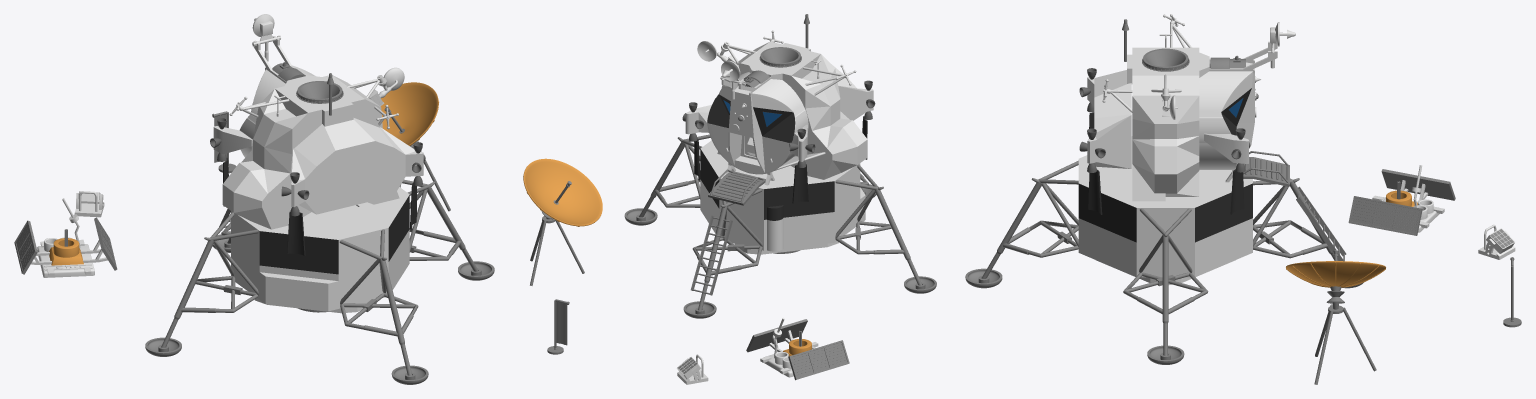
Rendered from Airfix lunar module upload.fbx.
3 renders of one model, left to right at view 1: azimuth 30°, elevation 25°; view 2: azimuth 150°, elevation 25°; view 3: azimuth 270°, elevation 25°, orthographic. The views are drawn at different scales.
Visible parts, largest first — view 1: descent body, midsection, aft section, s-band dish.002, descent body.001, Cube.013, Solar Panels, PSE base, fwd section.001, plume deflector, PSE drum, drogue (+14 smaller); view 2: descent body, midsection, fwd section.001, s-band dish.002, Solar Panels, centre fwd, porch, Cube.013, Plane.009, S-band antenna cover, Solar wind exp, plume deflector.001 (+19 smaller); view 3: descent body, midsection, Solar Panels, fwd section.001, s-band dish.002, Cube.013, aft section, porch, drogue, Plane.009, centre fwd, LRRR (+15 smaller).
Part boxes in pixels (<box>): descent body: <box>231,187,409,308</box>; midsection: <box>222,75,399,229</box>; aft section: <box>295,118,394,214</box>; s-band dish.002: <box>380,82,438,148</box>; descent body.001: <box>259,272,338,311</box>; Cube.013: <box>291,127,423,214</box>; Solar Panels: <box>14,217,117,274</box>; PSE base: <box>37,237,94,277</box>; fwd section.001: <box>239,66,315,157</box>; plume deflector: <box>287,182,416,255</box>; PSE drum: <box>49,229,83,265</box>; drogue: <box>296,81,343,103</box>; descent body: <box>700,140,860,250</box>; midsection: <box>717,41,867,179</box>; fwd section.001: <box>707,72,808,174</box>; s-band dish.002: <box>523,158,602,226</box>; Solar Panels: <box>746,319,849,380</box>; centre fwd: <box>728,75,770,172</box>; porch: <box>708,170,765,205</box>; Cube.013: <box>838,78,873,120</box>; Plane.009: <box>685,105,807,161</box>; S-band antenna cover: <box>767,205,783,251</box>; Solar wind exp: <box>547,299,569,354</box>; plume deflector.001: <box>694,138,808,203</box>; descent body: <box>1078,136,1252,277</box>; midsection: <box>1127,47,1209,201</box>; Solar Panels: <box>1348,169,1455,235</box>; fwd section.001: <box>1199,63,1252,169</box>; s-band dish.002: <box>1286,250,1385,309</box>; Cube.013: <box>1087,77,1131,168</box>; aft section: <box>1094,70,1131,118</box>; porch: <box>1243,157,1289,186</box>; drogue: <box>1142,48,1189,71</box>; Plane.009: <box>1204,133,1248,163</box>; centre fwd: <box>1209,58,1254,165</box>; LRRR: <box>1478,224,1515,259</box>.
Size of what is drawn, in the model's own units: 149 by 94.31 by 182.
